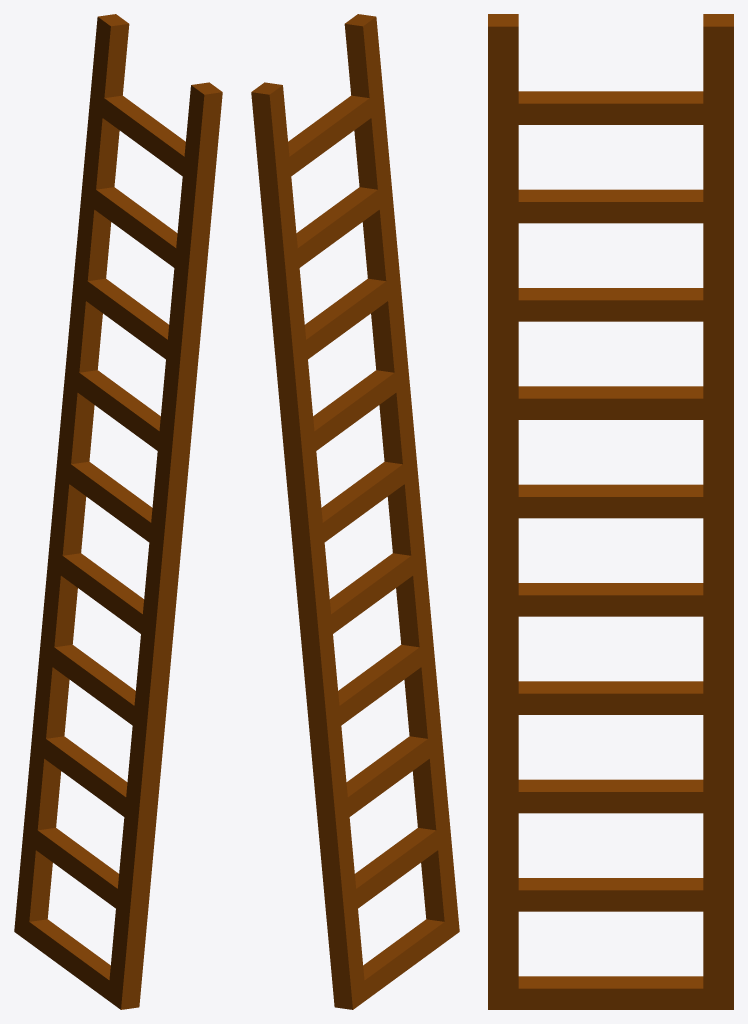
Rendered from Escalera.fbx.
3 renders of one model, left to right at view 1: azimuth 30°, elevation 25°; view 2: azimuth 150°, elevation 25°; view 3: azimuth 270°, elevation 25°, orthographic. The views are drawn at different scales.
Parts seen in each view (by area): view 1: Cubo; view 2: Cubo; view 3: Cubo.
Part boxes in pixels (x1,y1,x2,y2): Cubo: (14,14,222,1009); Cubo: (251,14,459,1009); Cubo: (488,14,733,1009).
Bounding box in the file's own units: 1101 × 9265 × 2000.
